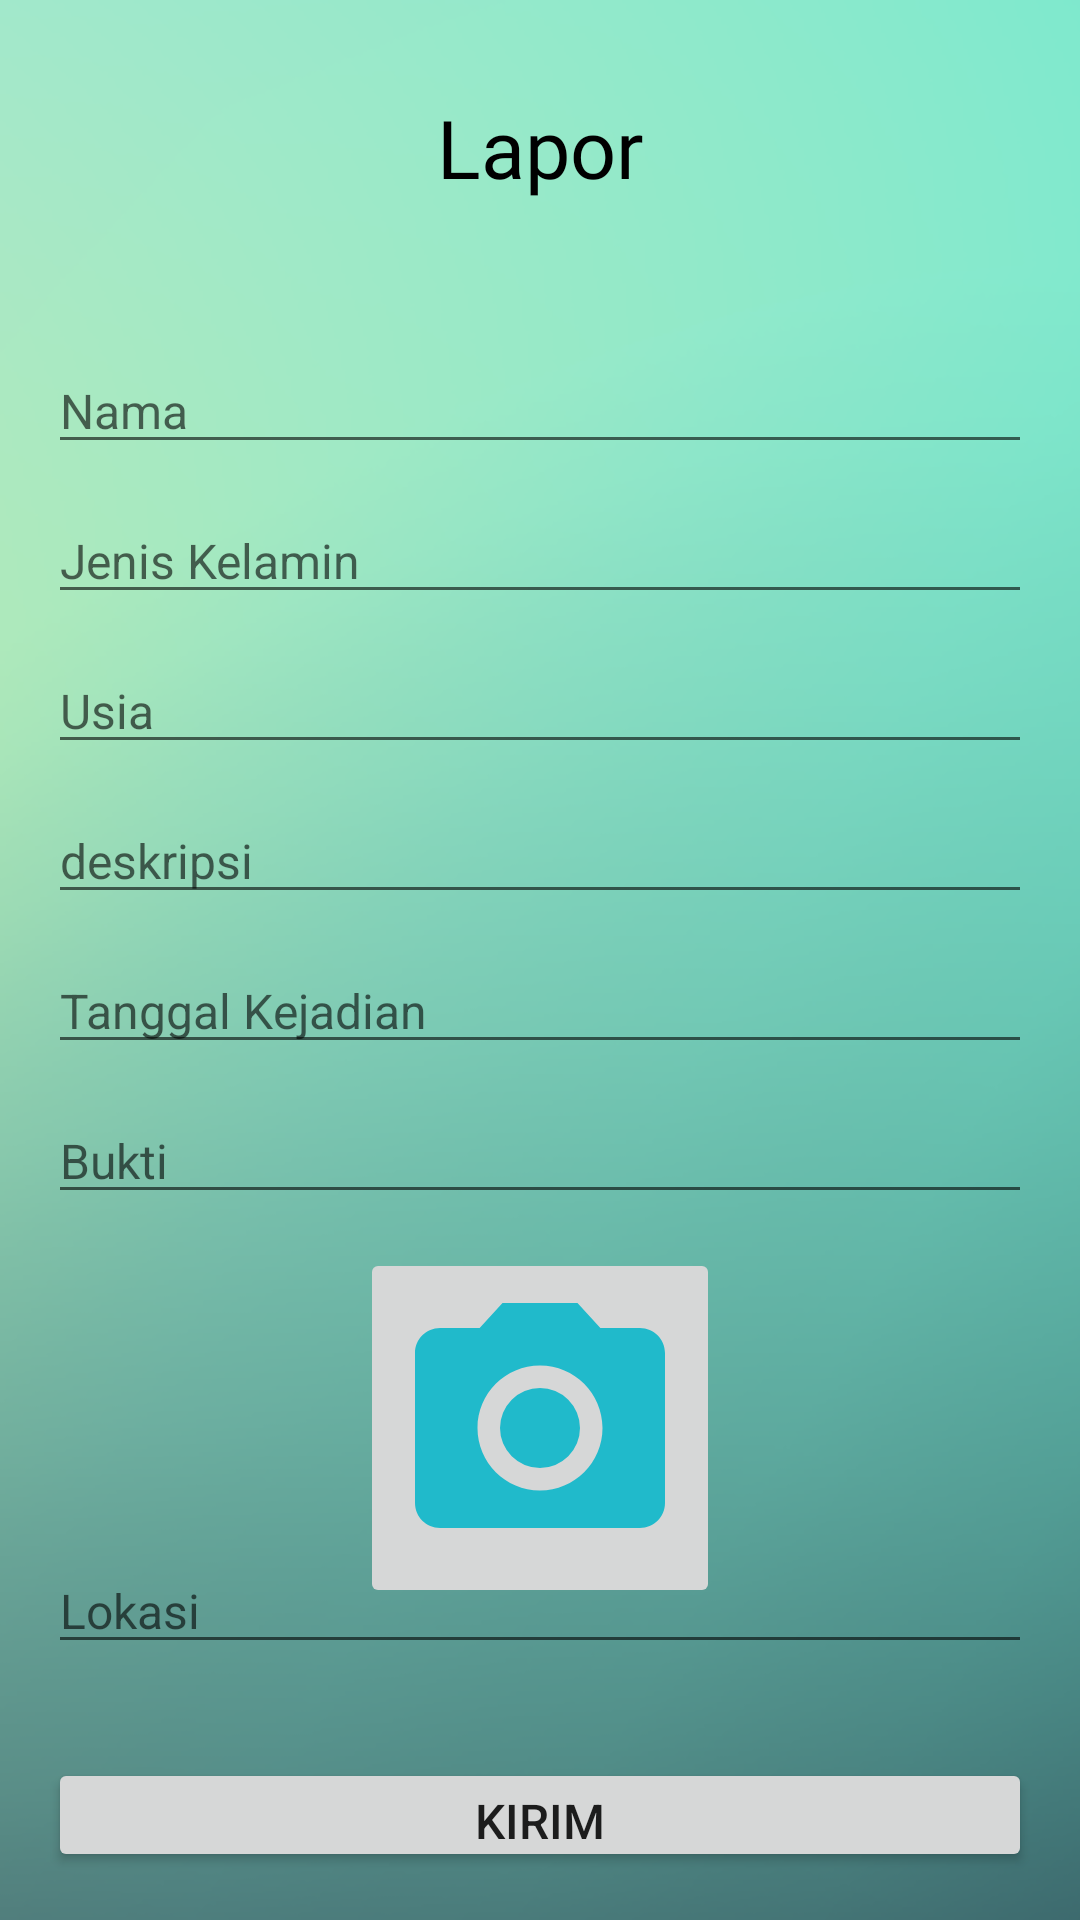

Locate icon controls on the screen. Image size 1080w x 1920h, boxes as detection(x1, y1, x2, y2).
camera: detection(360, 1248, 720, 1590)
